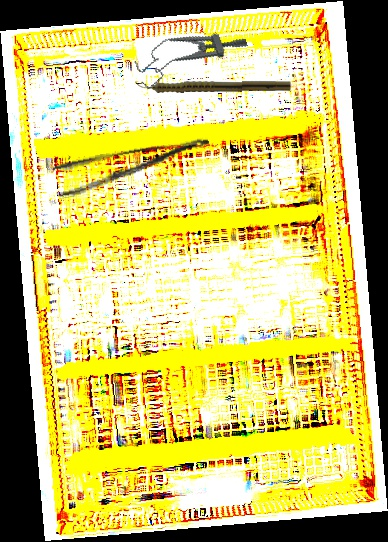Dressing Forceps: (51, 135, 215, 200)
Handpiece: (134, 77, 292, 94)
Speculum: (130, 14, 251, 92)
